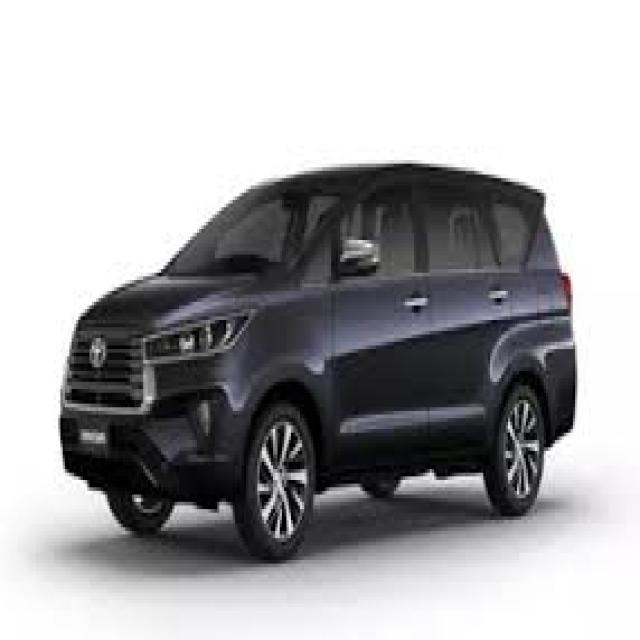light_vehicle: (59, 164, 577, 564)
